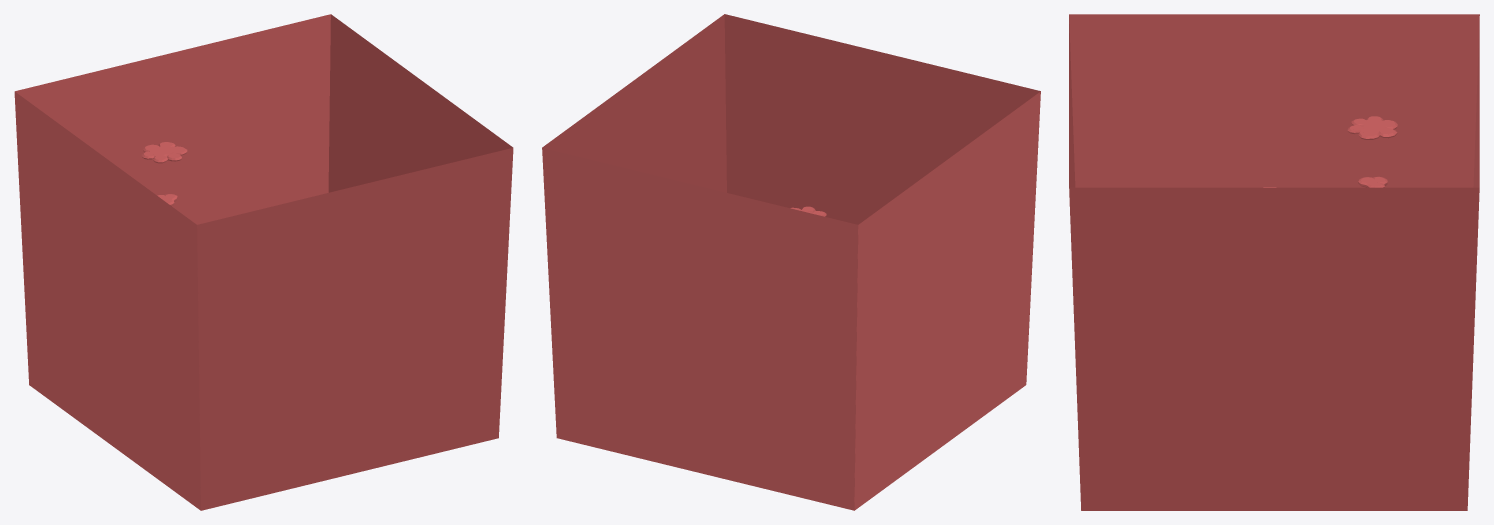
File: rainbow_mario.glb
The picture shows the model from 3 angles, left to right: view 1: azimuth 30°, elevation 25°; view 2: azimuth 150°, elevation 25°; view 3: azimuth 270°, elevation 25°; orthographic projection. The views are drawn at different scales.
Parts seen in each view (by area): view 1: rainbow_mario_col; view 2: rainbow_mario_col; view 3: rainbow_mario_col.
Boxes of the visible parts, bbox=[...] form: rainbow_mario_col: bbox=[14, 14, 513, 510]; rainbow_mario_col: bbox=[542, 14, 1040, 510]; rainbow_mario_col: bbox=[1069, 14, 1479, 510].
Size of the model in its own units: 17.01 by 15.02 by 17.01.
